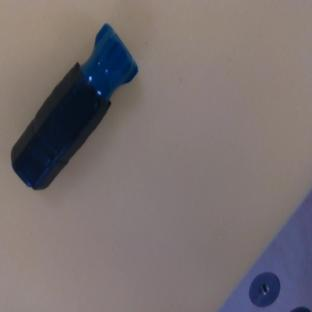part_2_bad: (0, 22, 150, 197)
